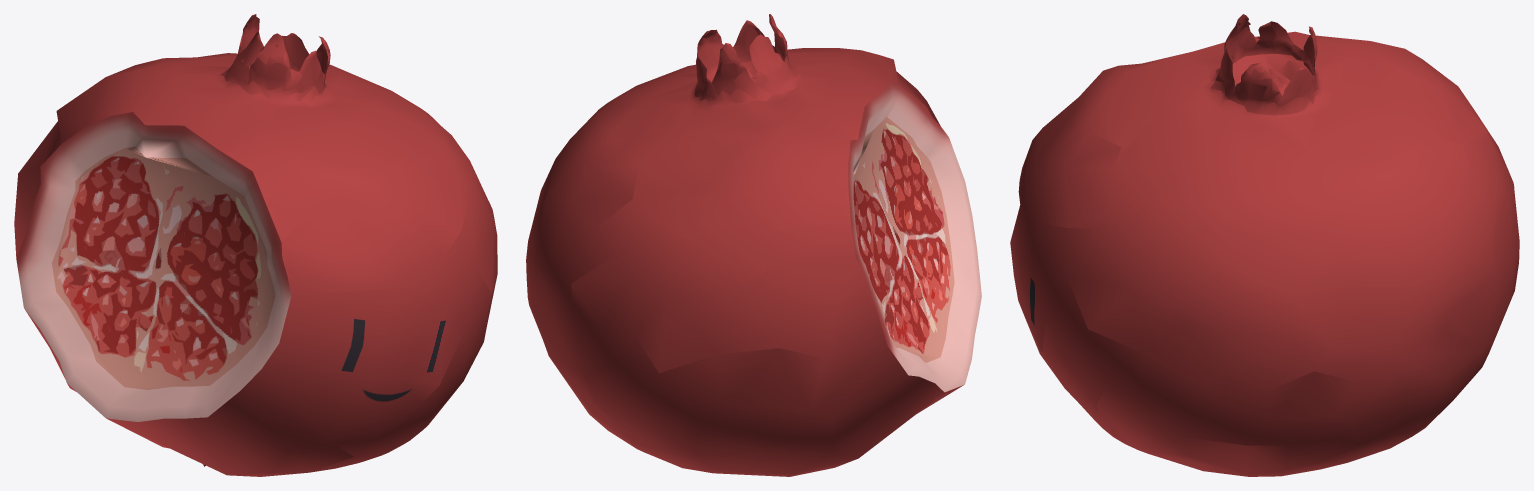
Rendered from POMEGRABNATEIdle.FBX.
3 views of the same model, side by side, from view 1: azimuth 30°, elevation 25°; view 2: azimuth 150°, elevation 25°; view 3: azimuth 270°, elevation 25° (orthographic). The views are drawn at different scales.
Visible parts, largest first — view 1: POMEGRANATE; view 2: POMEGRANATE; view 3: POMEGRANATE.
Part boxes in pixels (x1,y1,x2,y2): POMEGRANATE: (14,14,497,476); POMEGRANATE: (526,14,981,476); POMEGRANATE: (1010,14,1519,476).
Bounding box in the file's own units: 9.13 × 9.58 × 9.99.
